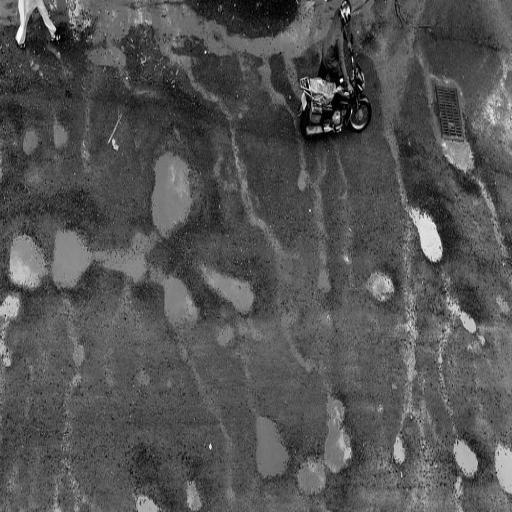hole: (139, 145, 208, 235), (402, 207, 446, 280), (52, 226, 91, 290), (10, 225, 46, 292)
